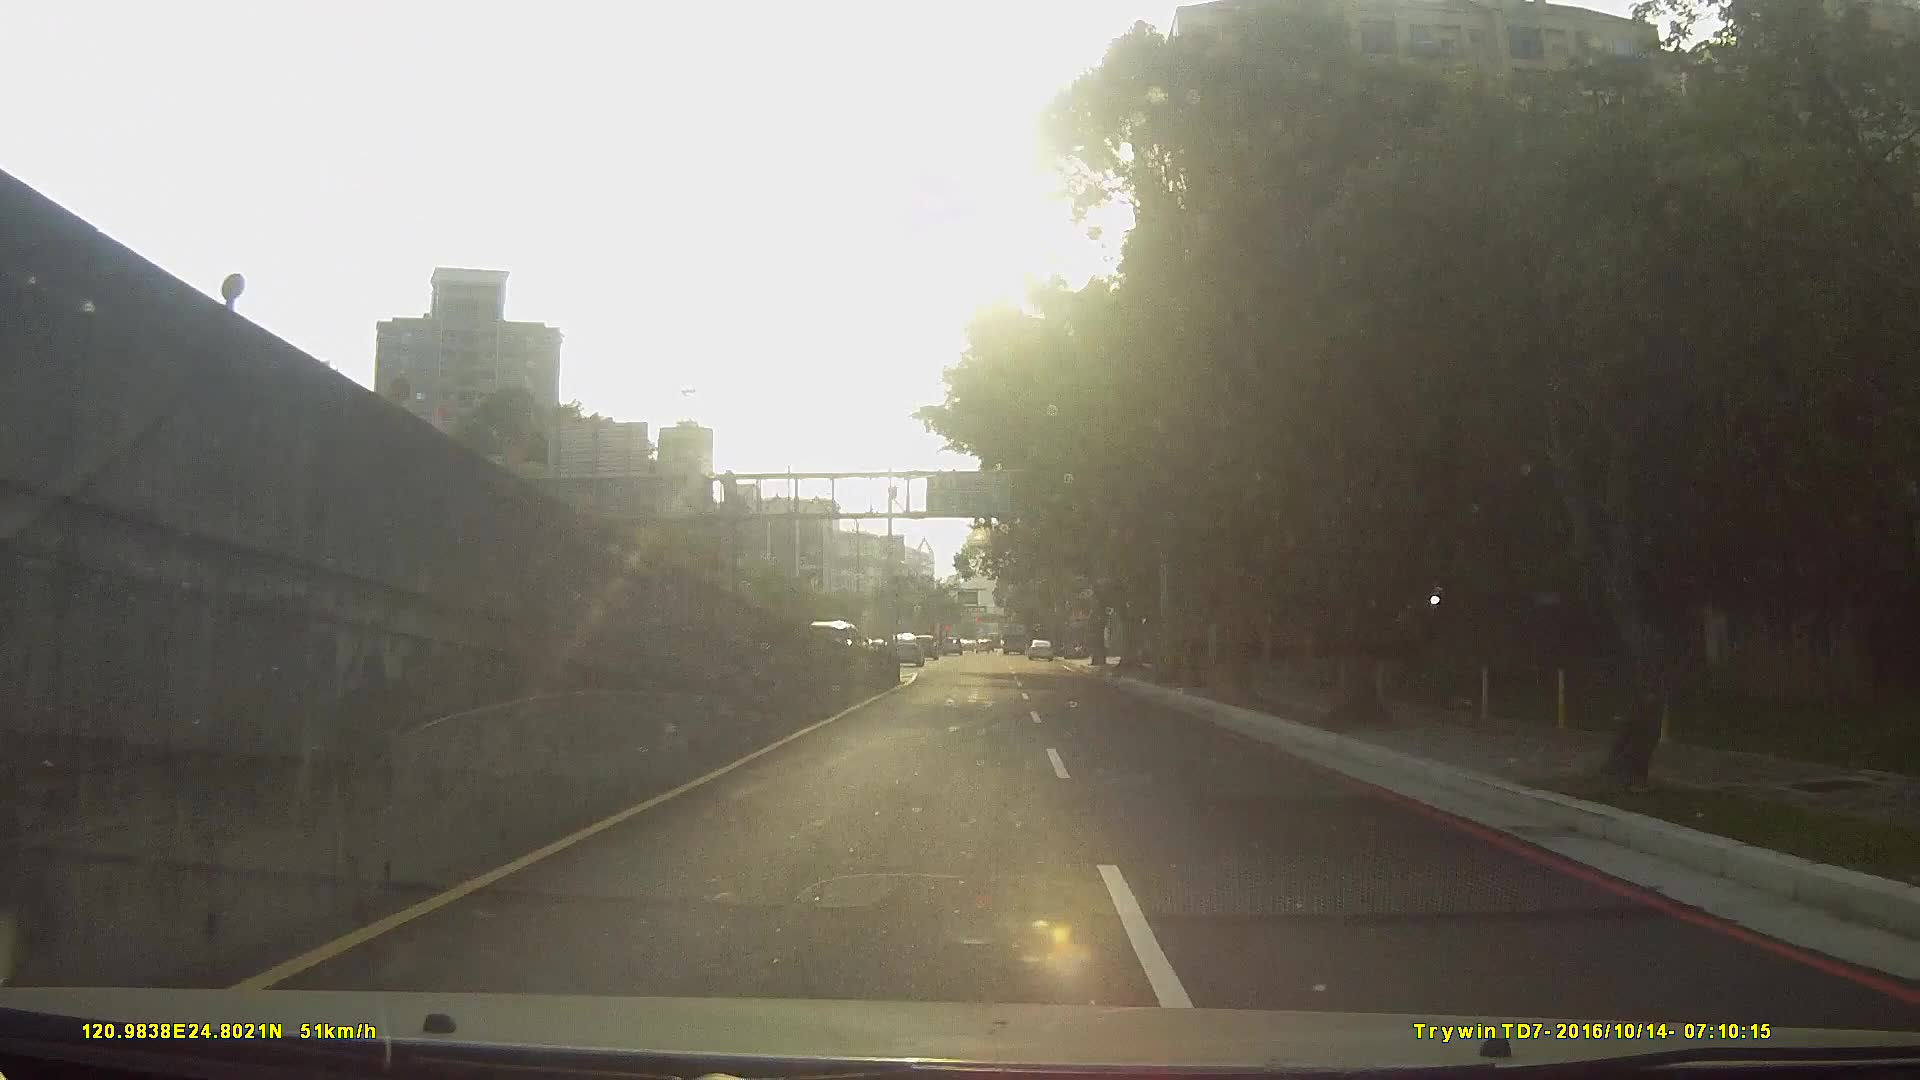vehicle: (880, 630, 924, 666), (1001, 616, 1027, 651), (1025, 636, 1054, 658)
